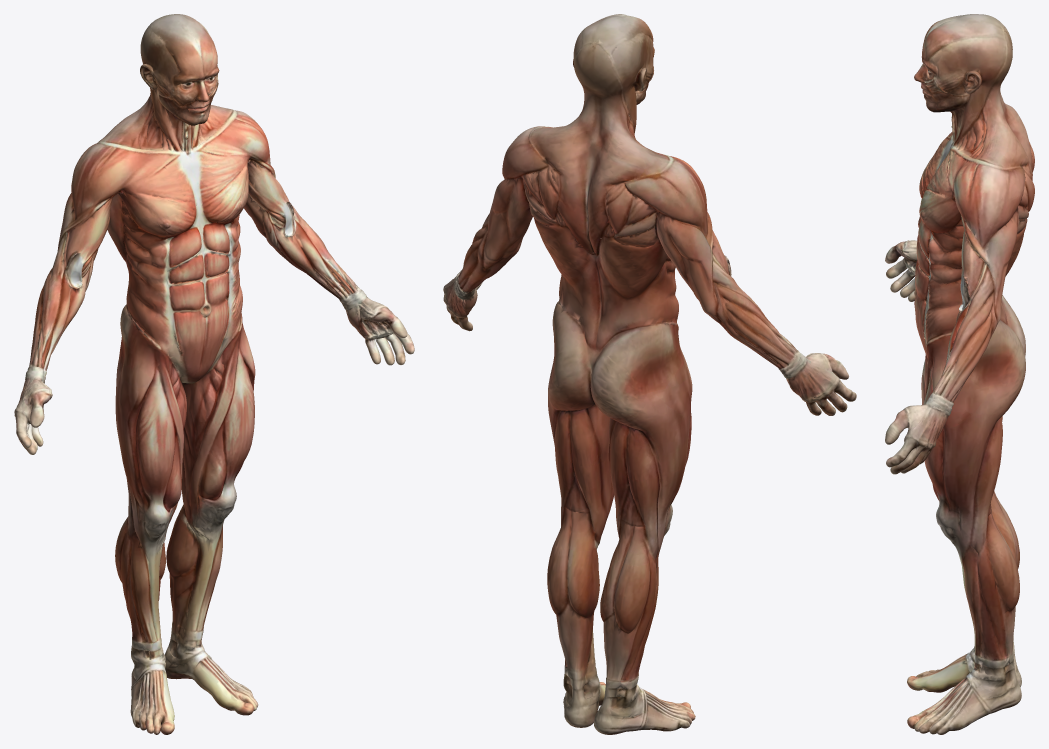
File: human-muscular.glb
The picture shows the model from 3 angles, left to right: view 1: azimuth 30°, elevation 25°; view 2: azimuth 150°, elevation 25°; view 3: azimuth 270°, elevation 25°; orthographic projection. The views are drawn at different scales.
Visible parts, largest first — view 1: tripo_node_df1711fc-230d-4057-8d78-cd0ba3cc55c2; view 2: tripo_node_df1711fc-230d-4057-8d78-cd0ba3cc55c2; view 3: tripo_node_df1711fc-230d-4057-8d78-cd0ba3cc55c2.
Boxes of the visible parts, x1,y1,x2,y2 form: tripo_node_df1711fc-230d-4057-8d78-cd0ba3cc55c2: (14,14,414,734); tripo_node_df1711fc-230d-4057-8d78-cd0ba3cc55c2: (443,14,856,734); tripo_node_df1711fc-230d-4057-8d78-cd0ba3cc55c2: (885,14,1034,734).
Size of the model in its own units: 0.5876 by 0.9789 by 0.192.
Materials: 1 (1 with a texture image).
